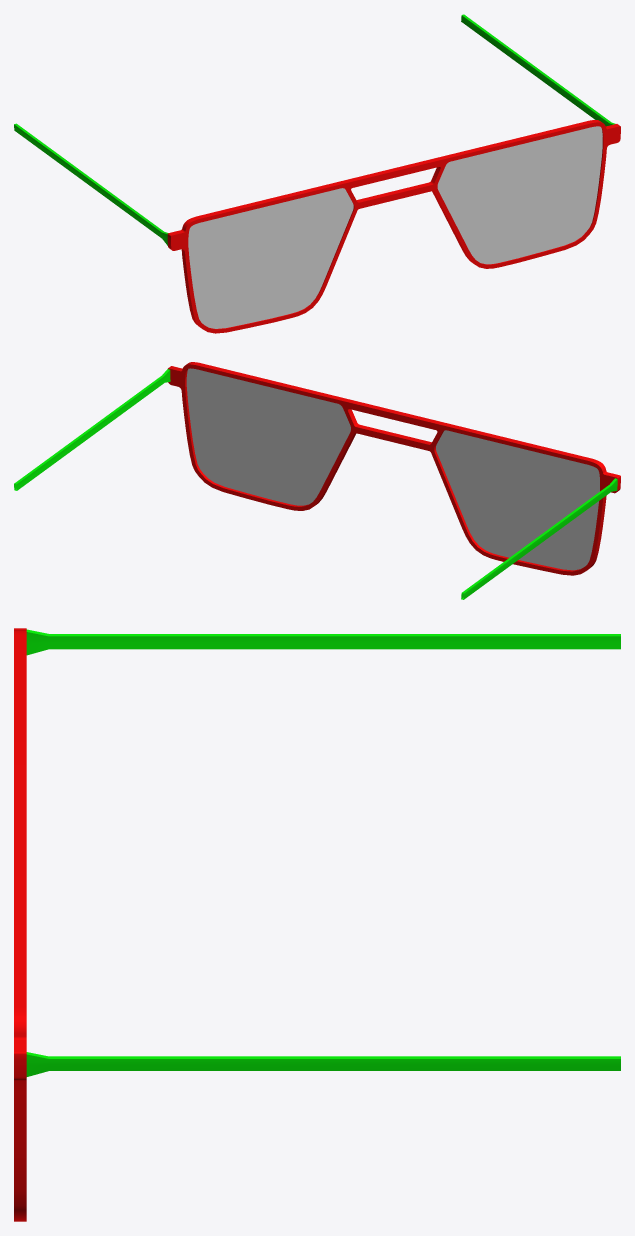
Rendered from ZAIS NeoRetro Glasses Large Cutoff.fbx.
The picture shows the model from 3 angles, top to bottom: view 1: azimuth 30°, elevation 25°; view 2: azimuth 150°, elevation 25°; view 3: azimuth 270°, elevation 25°; orthographic projection. The views are drawn at different scales.
Parts seen in each view (by area): view 1: Zais NeoRetro Frames Large Cutoff; view 2: Zais NeoRetro Frames Large Cutoff; view 3: Zais NeoRetro Frames Large Cutoff.
Part boxes in pixels (x1=…): Zais NeoRetro Frames Large Cutoff: x1=14, y1=14, x2=620, y2=333; Zais NeoRetro Frames Large Cutoff: x1=14, y1=362, x2=620, y2=599; Zais NeoRetro Frames Large Cutoff: x1=14, y1=628, x2=620, y2=1221.
Bounding box in the file's own units: 0.1835 × 0.0474 × 0.1107.
